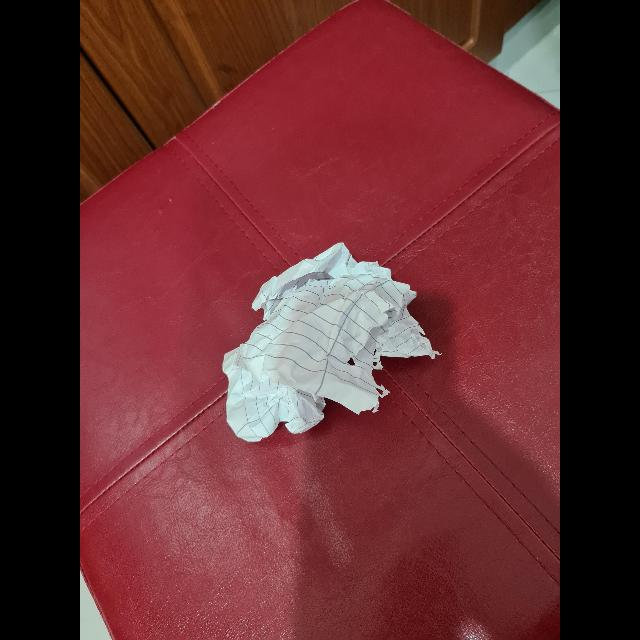trash: (219, 235, 435, 445)
